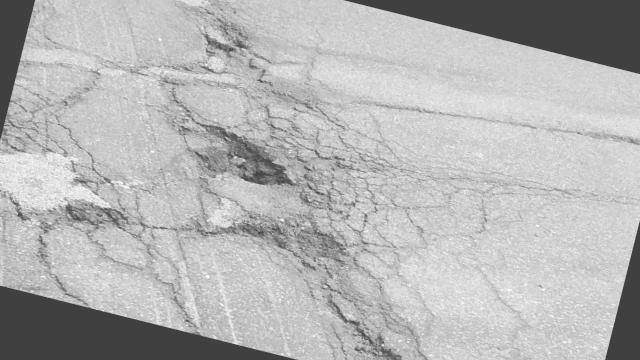Pothole: (166, 83, 331, 229), (232, 186, 376, 288), (36, 156, 148, 251), (178, 1, 268, 96), (316, 308, 423, 360)
